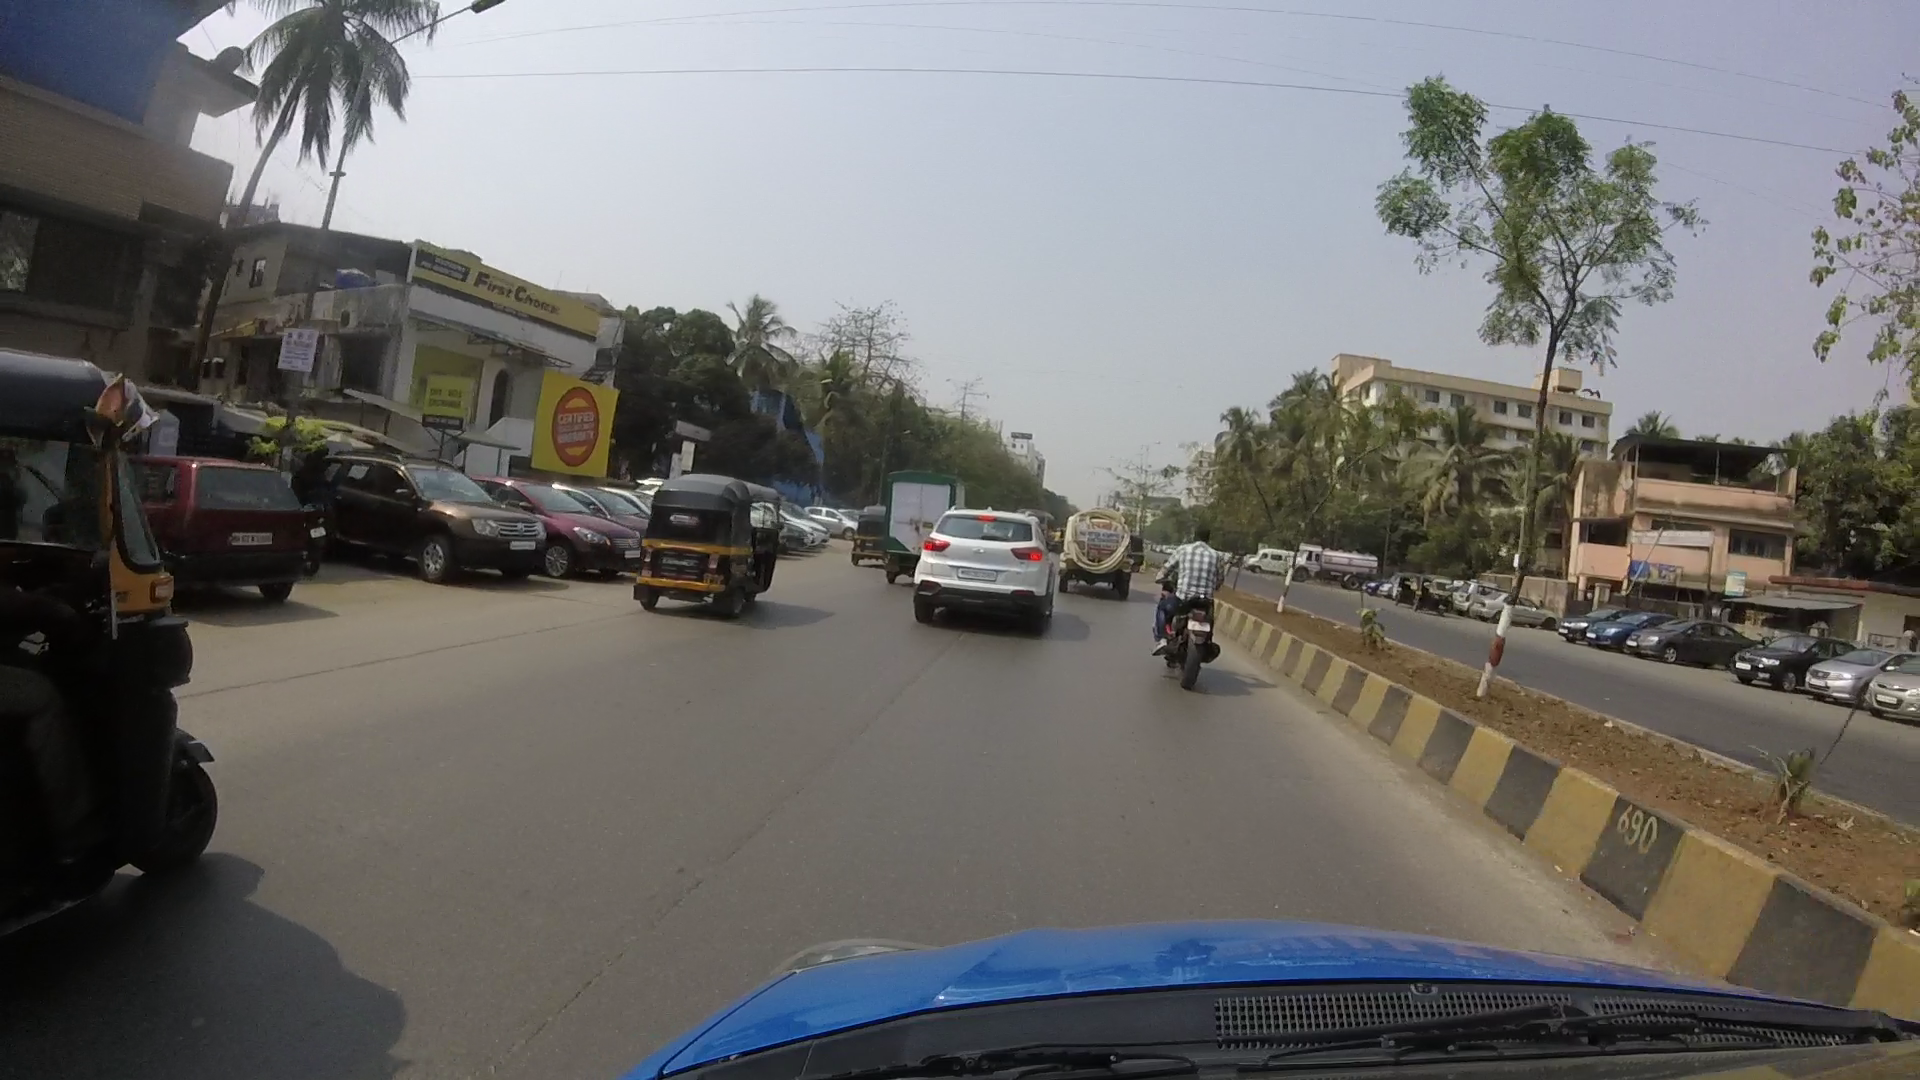bike/scooter: (1153, 524, 1242, 679)
car: (319, 442, 542, 579), (149, 431, 324, 596), (906, 506, 1065, 644), (497, 462, 638, 559)
rickshaw: (1, 348, 227, 945), (625, 477, 793, 622), (843, 491, 891, 574)
truck: (873, 465, 963, 572), (1062, 501, 1142, 596)
